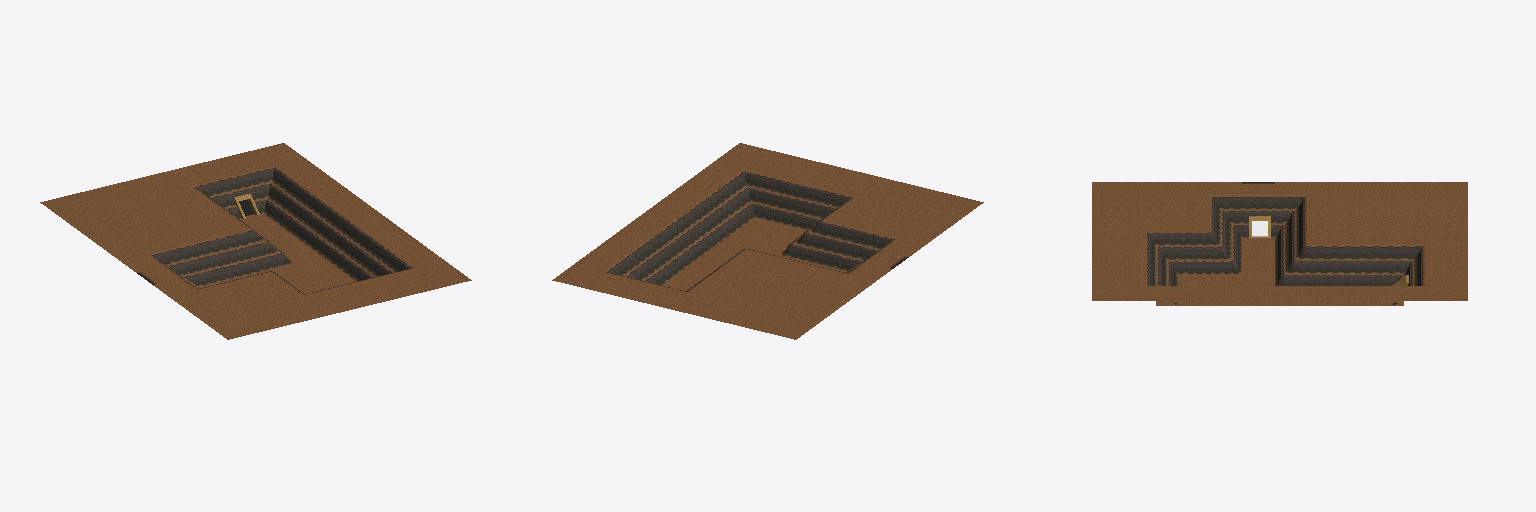
The picture shows the model from 3 angles: view 1: azimuth 30°, elevation 25°; view 2: azimuth 150°, elevation 25°; view 3: azimuth 270°, elevation 25°; orthographic projection.
Parts seen in each view (by area): view 1: polygon0, polygon1, polygon2, polygon4; view 2: polygon0, polygon1, polygon2; view 3: polygon0, polygon1, polygon2.
Boxes of the visible parts, x1=… form: polygon0: x1=40, y1=143, x2=471, y2=339; polygon1: x1=154, y1=170, x2=408, y2=286; polygon2: x1=149, y1=166, x2=413, y2=294; polygon4: x1=137, y1=199, x2=254, y2=284; polygon0: x1=552, y1=143, x2=983, y2=339; polygon1: x1=609, y1=174, x2=890, y2=284; polygon2: x1=604, y1=170, x2=895, y2=291; polygon0: x1=1092, y1=182, x2=1467, y2=305; polygon1: x1=1150, y1=198, x2=1420, y2=305; polygon2: x1=1146, y1=195, x2=1424, y2=285.
Bounding box in the file's own units: 6.56 × 0.75 × 8.75.
7 materials, 7 textured.